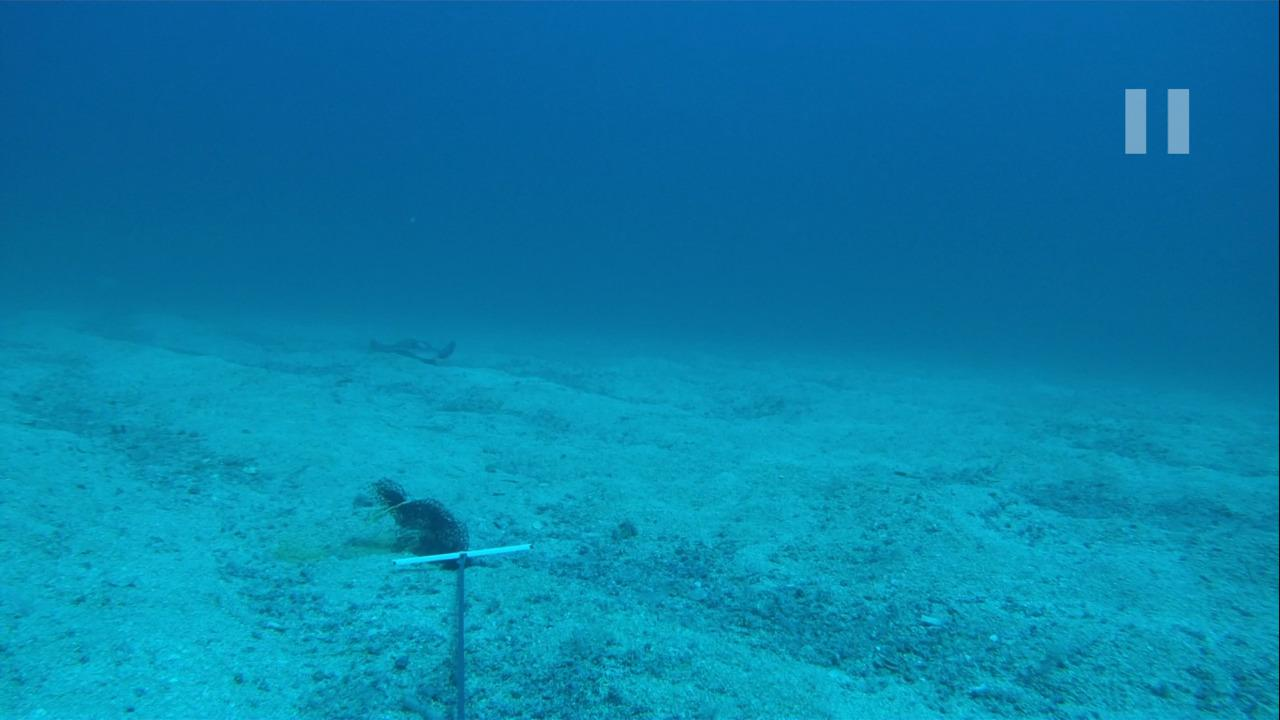myliobatis: (321, 333, 464, 367)
